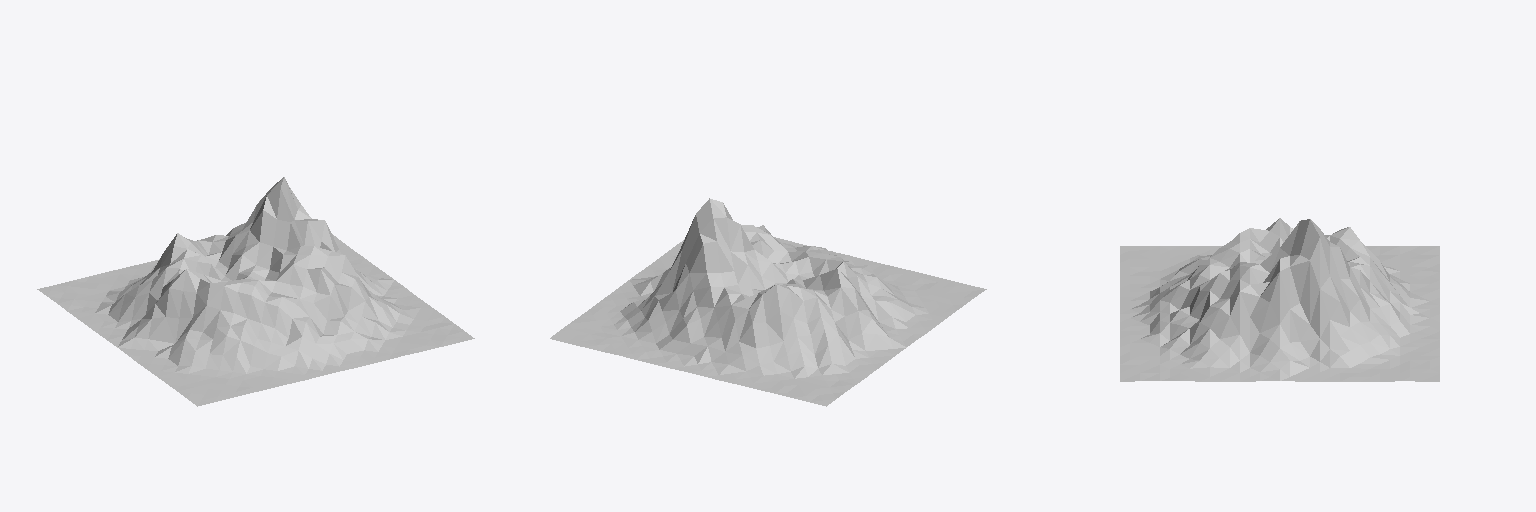
File: title_mountain.obj
3 renders of one model, left to right at view 1: azimuth 30°, elevation 25°; view 2: azimuth 150°, elevation 25°; view 3: azimuth 270°, elevation 25°, orthographic.
Parts seen in each view (by area): view 1: Plane; view 2: Plane; view 3: Plane.
Boxes of the visible parts, x1,y1,x2,y2 form: Plane: [37, 177, 474, 406]; Plane: [550, 198, 986, 406]; Plane: [1120, 218, 1439, 381].
Size of the model in its own units: 20 by 8.01 by 20.